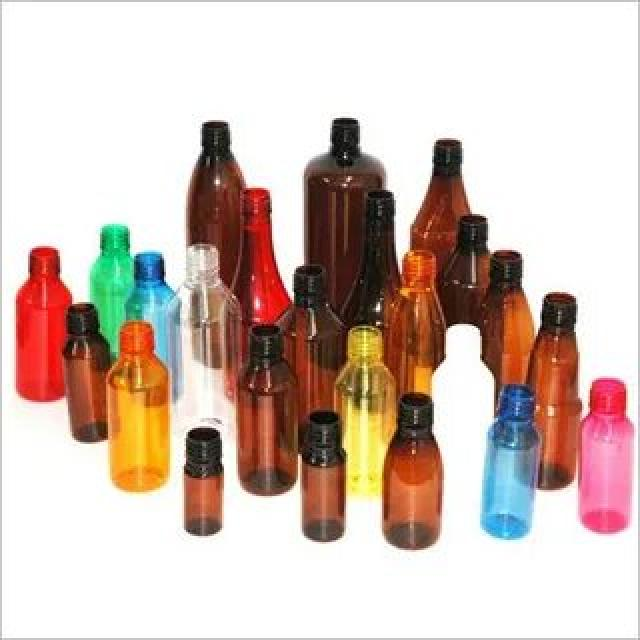blue: (483, 390, 540, 538), (128, 248, 177, 324)
brown: (304, 115, 394, 265), (235, 328, 295, 494), (406, 138, 492, 252), (530, 294, 578, 488), (383, 422, 442, 546), (64, 305, 114, 442), (190, 118, 242, 245), (487, 248, 530, 382), (442, 212, 490, 322), (300, 446, 345, 542), (184, 458, 224, 535)
